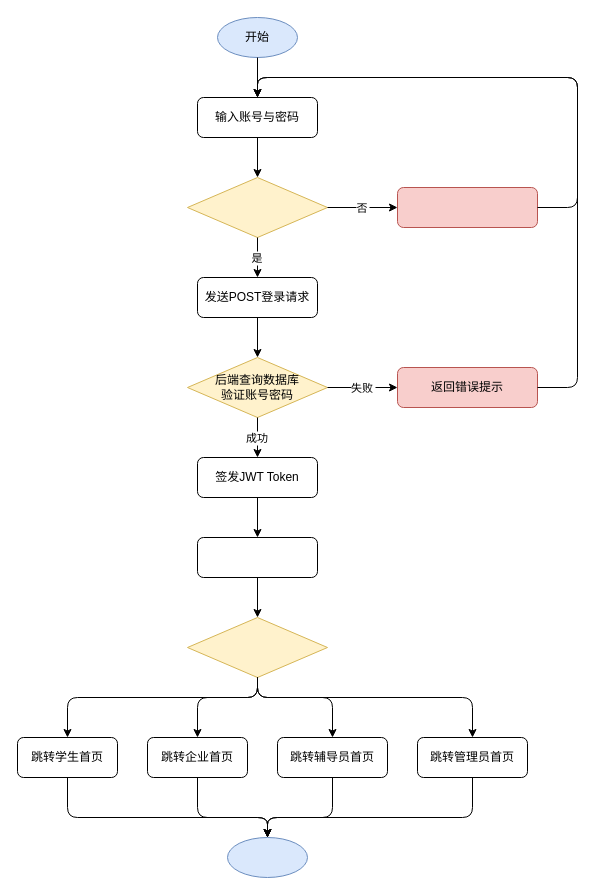
Image size: 603x895. Some labels were removed from this diagram. Each missing label, with the box of its shape:
判断用户角色: (186, 616, 328, 678)
前端存储Token: (196, 536, 318, 578)
前端非空校验: (186, 176, 328, 238)
提示用户填写完整信息: (396, 186, 538, 228)
结束: (226, 836, 308, 878)
